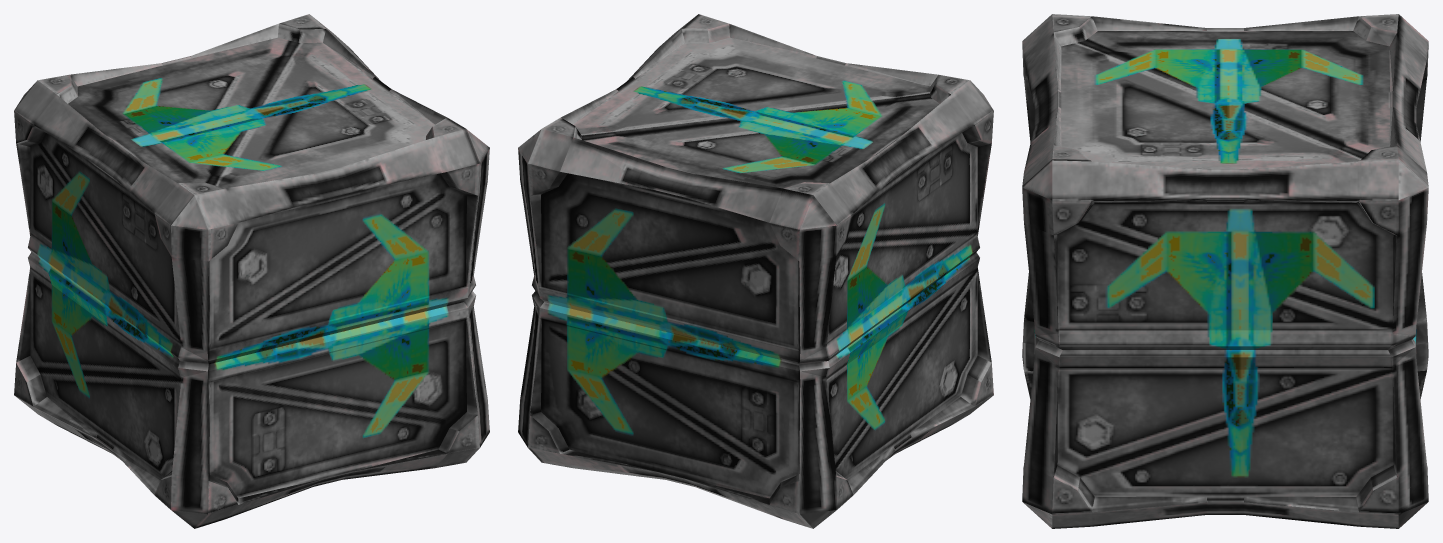
File: weapon_reflection_ammo.fbx
3 renders of one model, left to right at view 1: azimuth 30°, elevation 25°; view 2: azimuth 150°, elevation 25°; view 3: azimuth 270°, elevation 25°, orthographic. The views are drawn at different scales.
Visible parts, largest first — view 1: Cube.003; view 2: Cube.003; view 3: Cube.003.
Part boxes in pixels (left/top/right/bottom): Cube.003: left=14, top=14, right=489, bottom=528; Cube.003: left=518, top=14, right=993, bottom=528; Cube.003: left=1022, top=14, right=1428, bottom=528.
Size of the model in its own units: 112 by 112 by 112.
